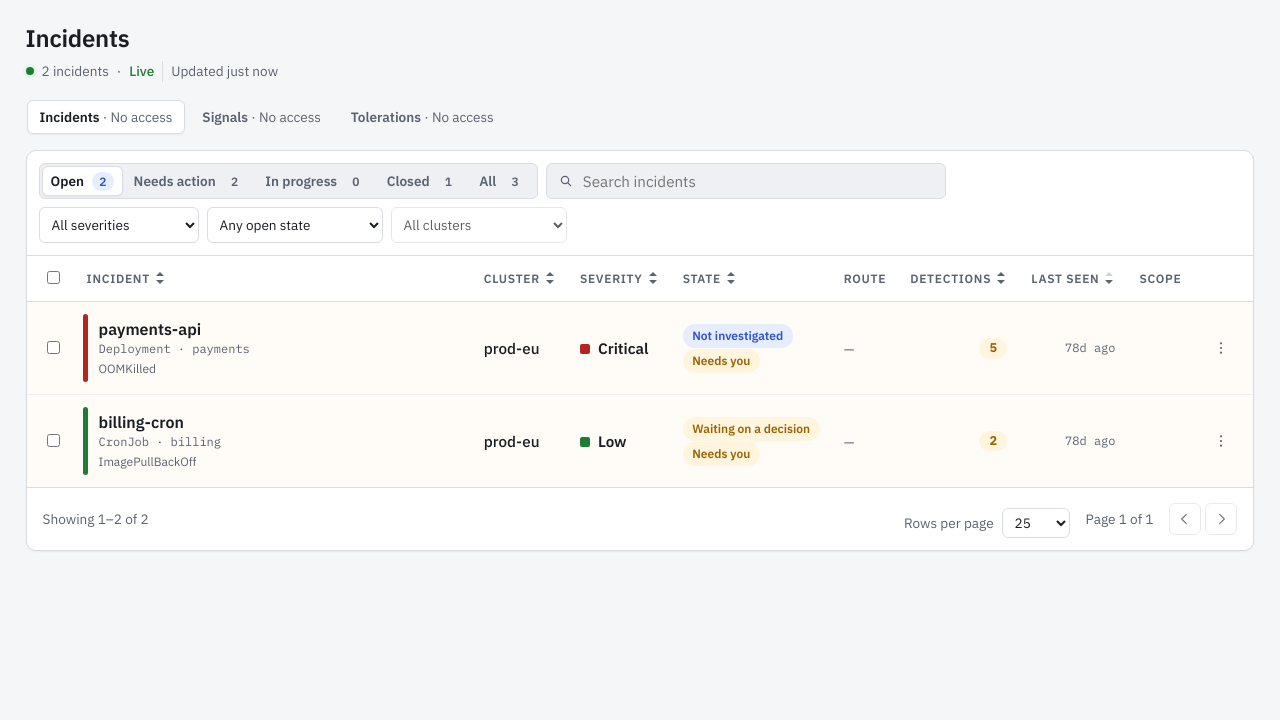
IncidentsPage — status tabs, severity and state filters › offers only the states inside the chosen status, and sends the chosen one
The width and height of the screenshot is (1280, 720).
Check: the link "payments-api" is shown, box [99,318,201,341]
Click the button "Closed 1".
click(423, 181)  # box [378,166,468,196]
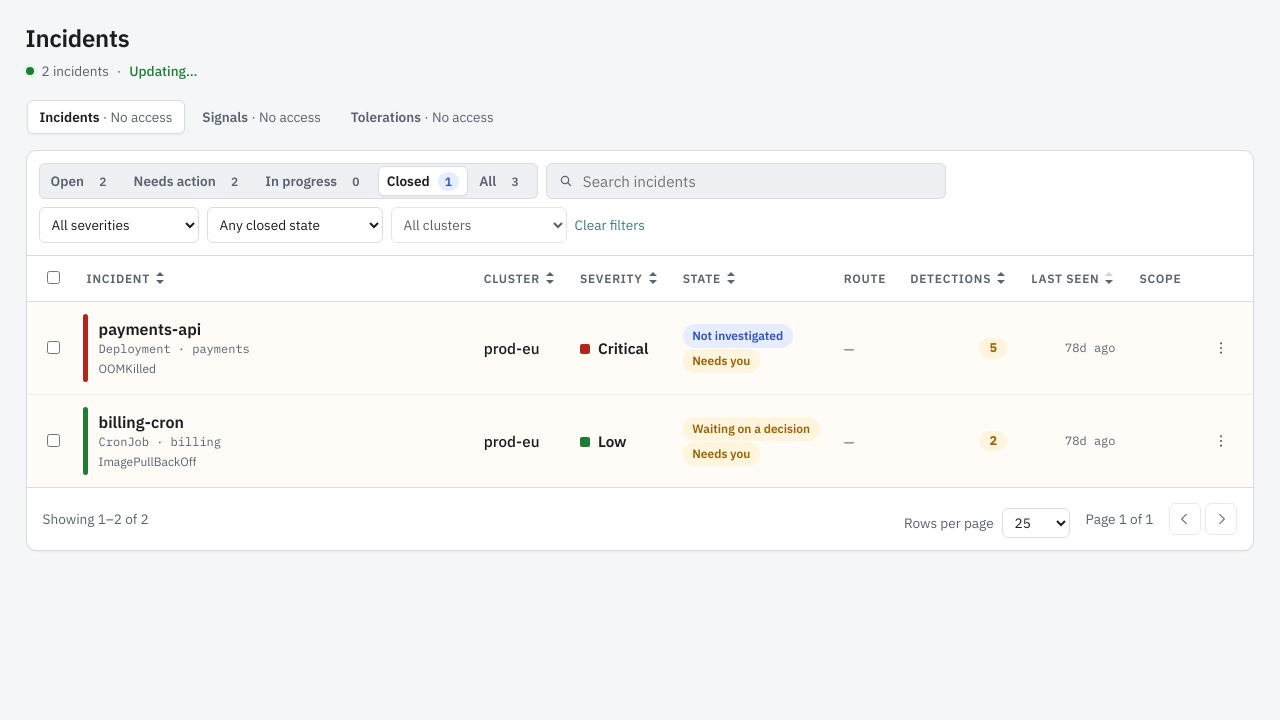
Select "Resolved" in the 2nd dropdown named "Filter by state" at (295, 225), box [207,207,383,243]
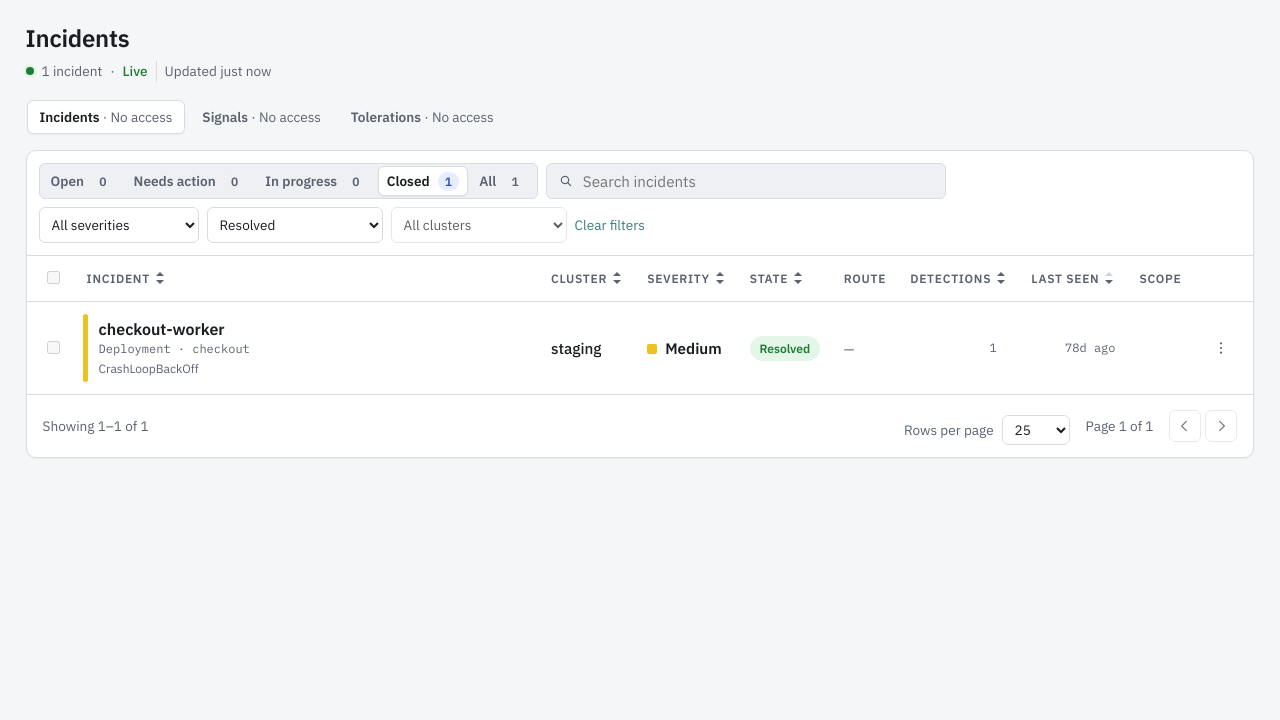
Check: the link "checkout-worker" is shown, box [99,318,225,341]
Check: the link "payments-api" is gone
